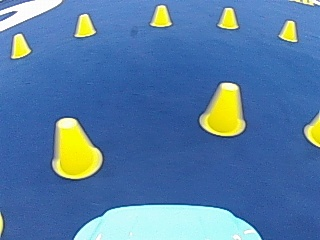cone: (51, 117, 101, 178), (199, 81, 246, 136), (73, 13, 96, 37), (10, 32, 31, 58), (149, 4, 172, 27), (304, 112, 318, 147), (217, 6, 238, 29), (278, 19, 298, 41)
